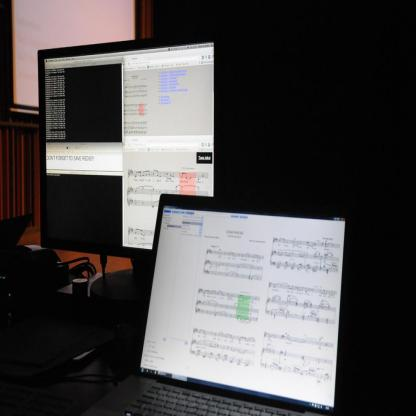board: (106, 180, 348, 416)
